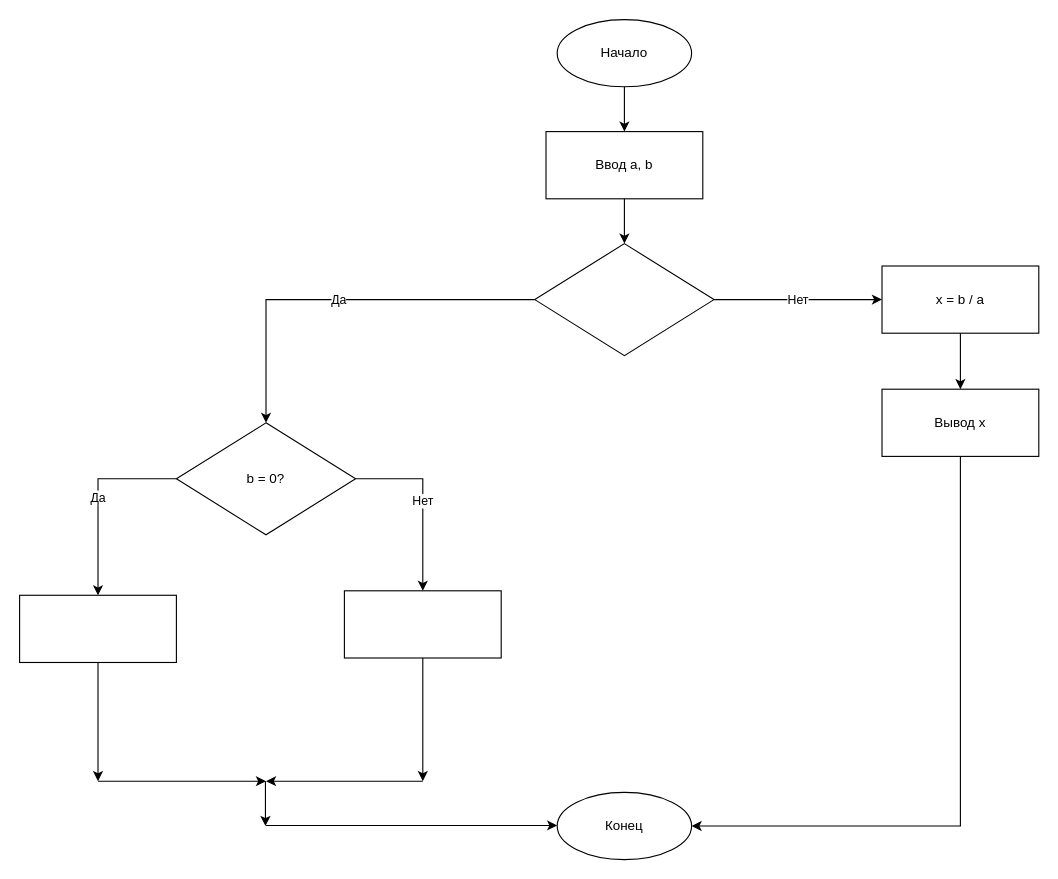
The diagram is 1058 pixels wide and 879 high, and some of its shapes have lost their labels. The centre of each missing label's shape, as x and y in pixels:
a = 0?: the point at 624,299
Вывод: бесконечно много решений: the point at 97,628
Вывод: нет решений: the point at 422,624
